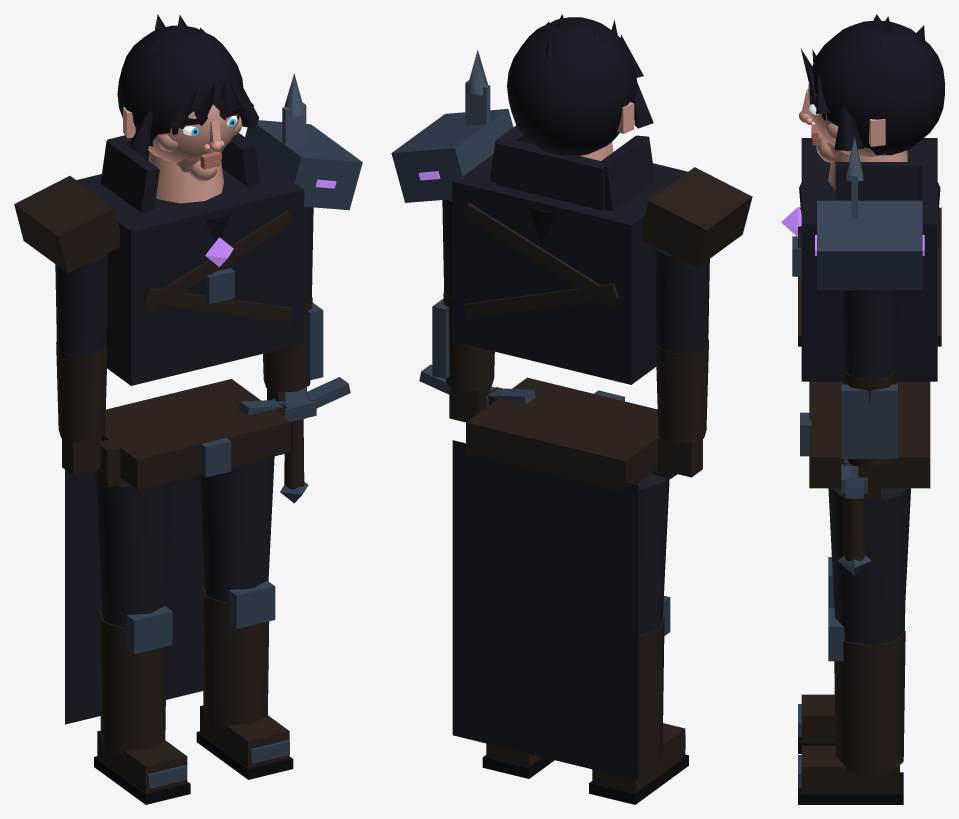
The model's file is kael.glb.
The picture shows the model from 3 angles, left to right: view 1: azimuth 30°, elevation 25°; view 2: azimuth 150°, elevation 25°; view 3: azimuth 270°, elevation 25°; orthographic projection. The views are drawn at different scales.
Visible parts, largest first — view 1: Chest, Hips, LeftCalf, RightCalf, StyledHair, LeftThigh, RightThigh, CoatTailLeft, CoatTailRight, LeftShoulder, RightShoulder, NightfallCleaver (+7 smaller); view 2: Chest, CoatTailLeft, CoatTailRight, Hips, StyledHair, LeftShoulder, LeftCalf, RightShoulder, LeftUpperArm, LeftForearm, LeftThigh, RightForearm (+5 smaller); view 3: Chest, RightCalf, StyledHair, RightShoulder, RightThigh, Hips, RightForearm, RightUpperArm, NightfallCleaver, LeftCalf, Head, RightHand (+1 smaller).
Boxes of the visible parts, left/top/right/bottom form: Chest: left=76, top=133, right=304, bottom=385; Hips: left=96, top=379, right=290, bottom=489; LeftCalf: left=94, top=605, right=190, bottom=804; RightCalf: left=196, top=580, right=293, bottom=779; StyledHair: left=117, top=14, right=259, bottom=155; LeftThigh: left=94, top=469, right=171, bottom=628; RightThigh: left=198, top=456, right=274, bottom=602; CoatTailLeft: left=65, top=470, right=100, bottom=724; CoatTailRight: left=166, top=475, right=203, bottom=699; LeftShoulder: left=14, top=176, right=119, bottom=272; RightShoulder: left=245, top=120, right=362, bottom=210; NightfallCleaver: left=238, top=73, right=350, bottom=503; Chest: left=452, top=125, right=687, bottom=384; CoatTailLeft: left=545, top=473, right=638, bottom=780; CoatTailRight: left=452, top=440, right=545, bottom=757; Hips: left=466, top=377, right=677, bottom=492; StyledHair: left=507, top=14, right=653, bottom=155; LeftShoulder: left=643, top=167, right=752, bottom=268; LeftCalf: left=589, top=596, right=688, bottom=804; RightShoulder: left=391, top=109, right=513, bottom=202; LeftUpperArm: left=655, top=248, right=709, bottom=353; LeftForearm: left=656, top=339, right=708, bottom=443; LeftThigh: left=636, top=474, right=669, bottom=635; RightForearm: left=432, top=293, right=494, bottom=391; Chest: left=781, top=138, right=941, bottom=381; RightCalf: left=798, top=608, right=905, bottom=804; StyledHair: left=800, top=14, right=944, bottom=155; RightShoulder: left=815, top=200, right=924, bottom=290; RightThigh: left=828, top=488, right=910, bottom=645; Hips: left=800, top=381, right=930, bottom=501; RightForearm: left=841, top=369, right=897, bottom=468; RightUpperArm: left=841, top=290, right=897, bottom=380; NightfallCleaver: left=838, top=137, right=871, bottom=575; LeftCalf: left=798, top=557, right=905, bottom=753; Head: left=799, top=82, right=886, bottom=162; RightHand: left=852, top=466, right=880, bottom=501.
Size of the model in its own units: 0.9438 by 2.2 by 0.4341.
